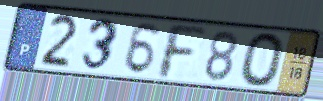2: (38, 12, 81, 72)
3: (79, 16, 124, 74)
6: (122, 22, 162, 76)
8: (204, 29, 240, 84)
F: (157, 21, 209, 81)
O: (238, 30, 287, 89)
